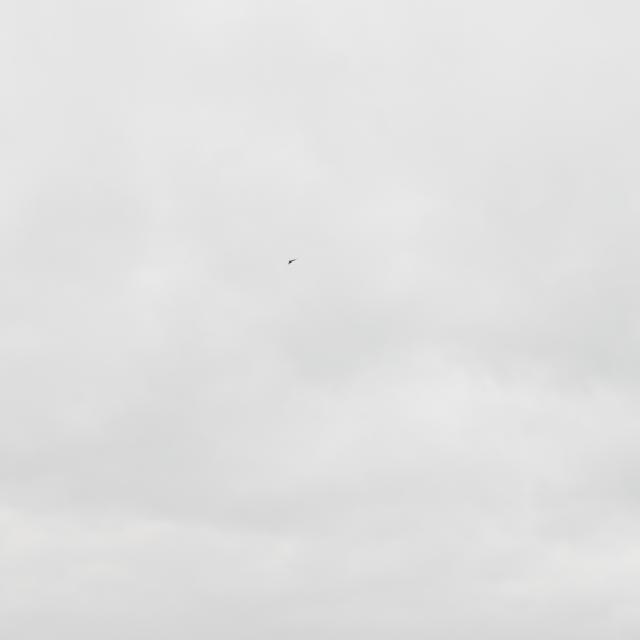Airaplan: (287, 258, 298, 265)
